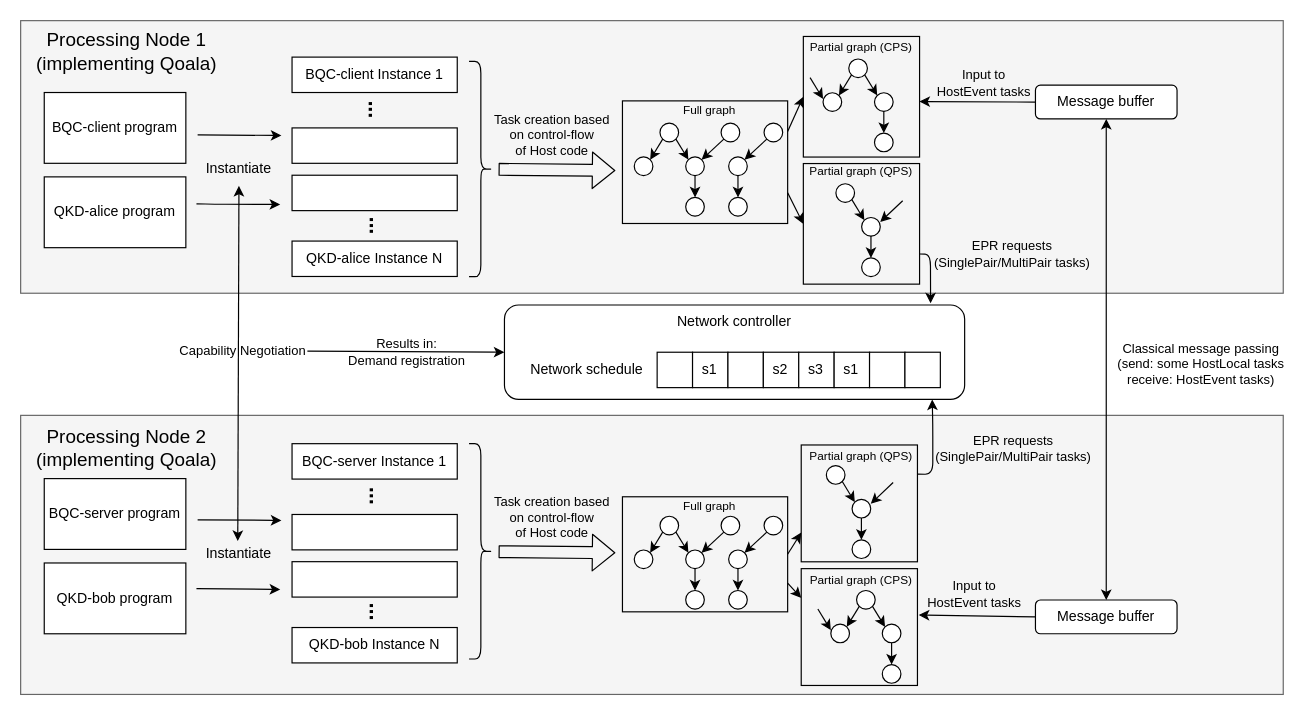
The diagram is 1304 pixels wide and 715 high, and some of its shapes have lost their labels. The shapes that lost their labels are listed below. From the top down, each one's centre as x and y in pixels, then its label:
(x=374, y=145): BQC-client Instance M
(x=374, y=192): QKD-alice Instance 1
(x=374, y=531): BQC-server Instance M
(x=374, y=578): QKD-bob Instance 1
